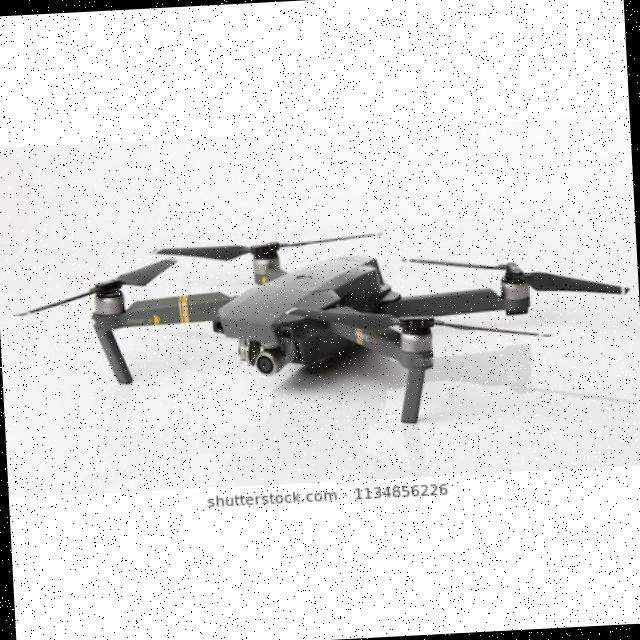Drones: (83, 221, 605, 426)
